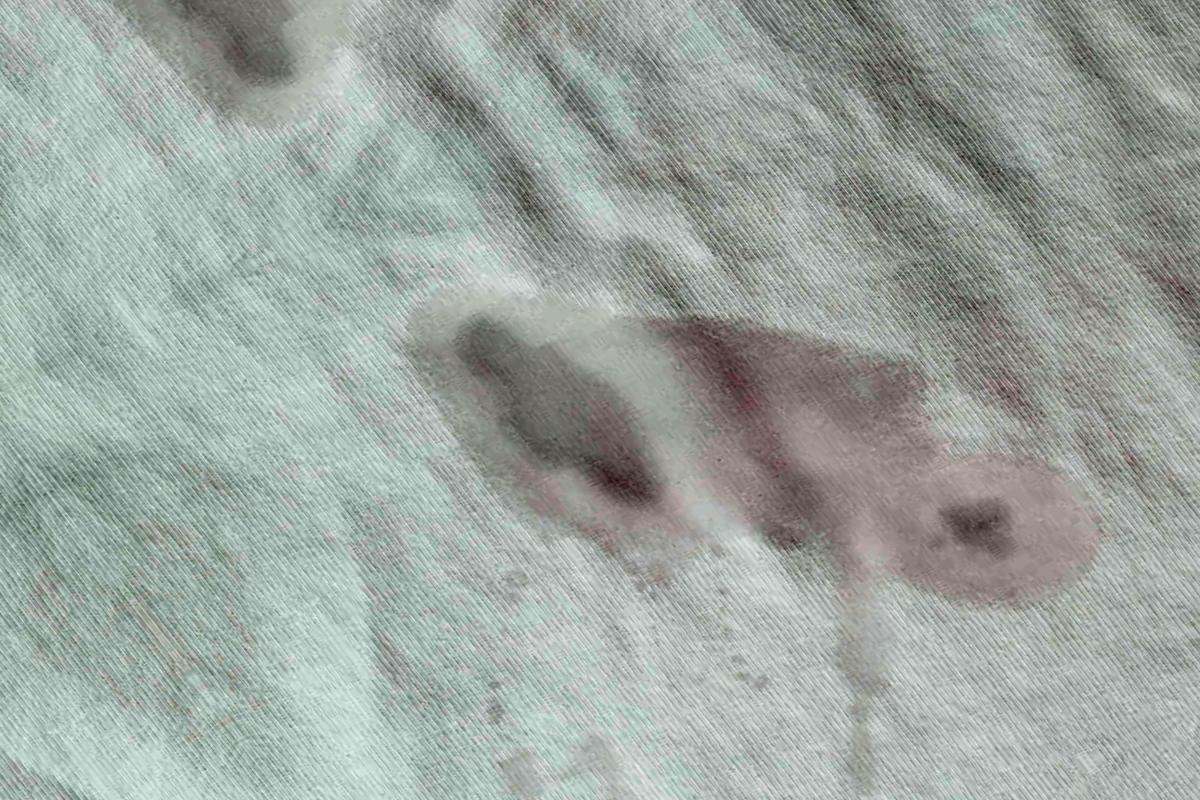stain: (403, 265, 1131, 620), (110, 2, 372, 142)
